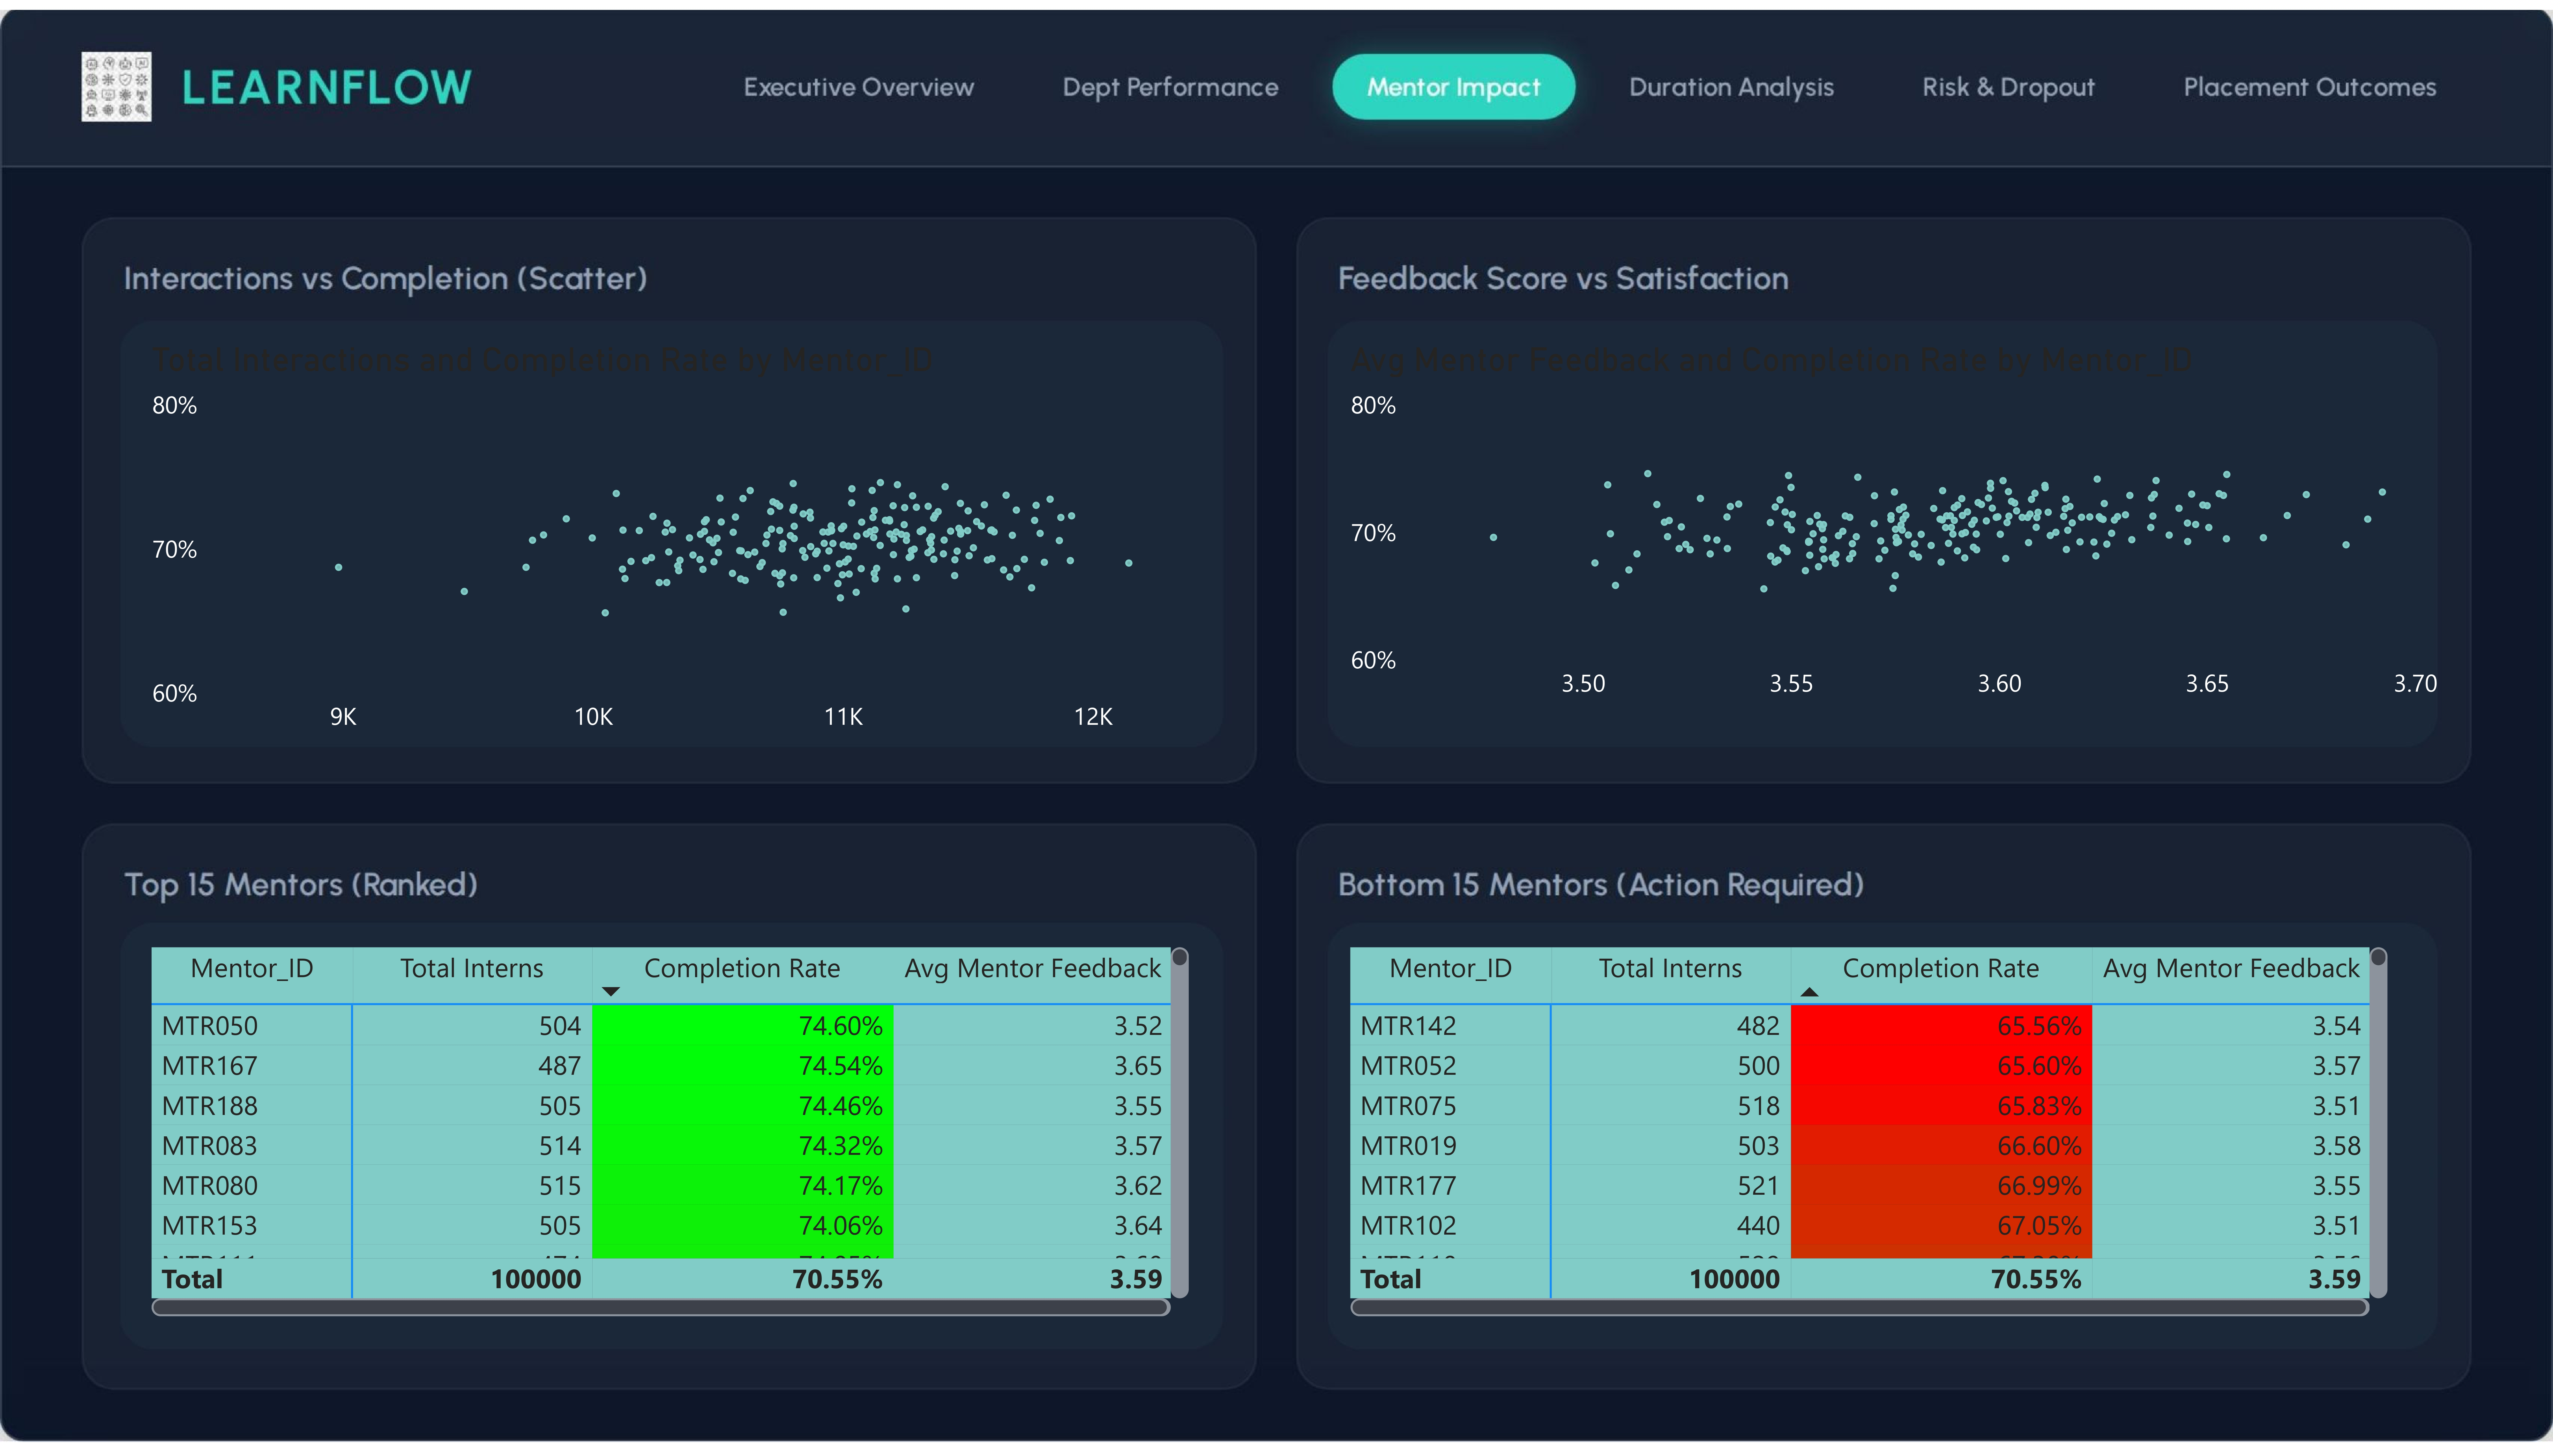

This screenshot's page, from the dashboard's own definition file:
{"tool":"powerbi","page":{"name":"Mentor Impact","canvas":[1280,720],"ordinal":2},"visuals":[{"type":"pivotTable","fields":{"Rows":["internship_data.Mentor_ID"],"Values":["internship_data.Total Interns","internship_data.Completion Rate","internship_data.Avg Mentor Feedback"]},"box":[71.2,464.9,530,195.3],"z":0},{"type":"pivotTable","fields":{"Rows":["internship_data.Mentor_ID"],"Values":["internship_data.Total Interns","internship_data.Completion Rate","internship_data.Avg Mentor Feedback"]},"box":[672.3,464.9,530,195.3],"z":1000},{"type":"scatterChart","fields":{"X":["internship_data.Total Interactions"],"Y":["internship_data.Completion Rate"],"Category":["internship_data.Mentor_ID"]},"box":[71.2,165,554.2,207.4],"z":2000},{"type":"scatterChart","fields":{"X":["internship_data.Avg Mentor Feedback"],"Y":["internship_data.Completion Rate"],"Category":["internship_data.Mentor_ID"]},"box":[672.3,165,555.7,190.8],"z":3000}]}

Visuals, with their boxes on the page's 1280x720 design canvas (x1, y1, x2, y2). These are canvas units, not pixel positions in the 2553x1456 screenshot, which may show the page scaled, cropped or inside an application window:
pivotTable - internship_data.Mentor_ID x internship_data.Total Interns: [x1=71, y1=465, x2=601, y2=660]
pivotTable - internship_data.Mentor_ID x internship_data.Total Interns: [x1=672, y1=465, x2=1202, y2=660]
scatterChart - internship_data.Total Interactions x internship_data.Completion Rate: [x1=71, y1=165, x2=625, y2=372]
scatterChart - internship_data.Avg Mentor Feedback x internship_data.Completion Rate: [x1=672, y1=165, x2=1228, y2=356]
